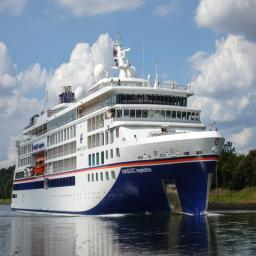cruises: (11, 34, 225, 219)
